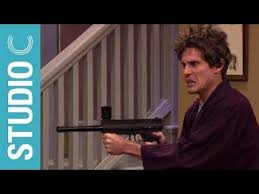rifle: (55, 106, 164, 138)
